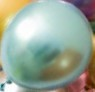Balloon: (1, 1, 92, 88)
